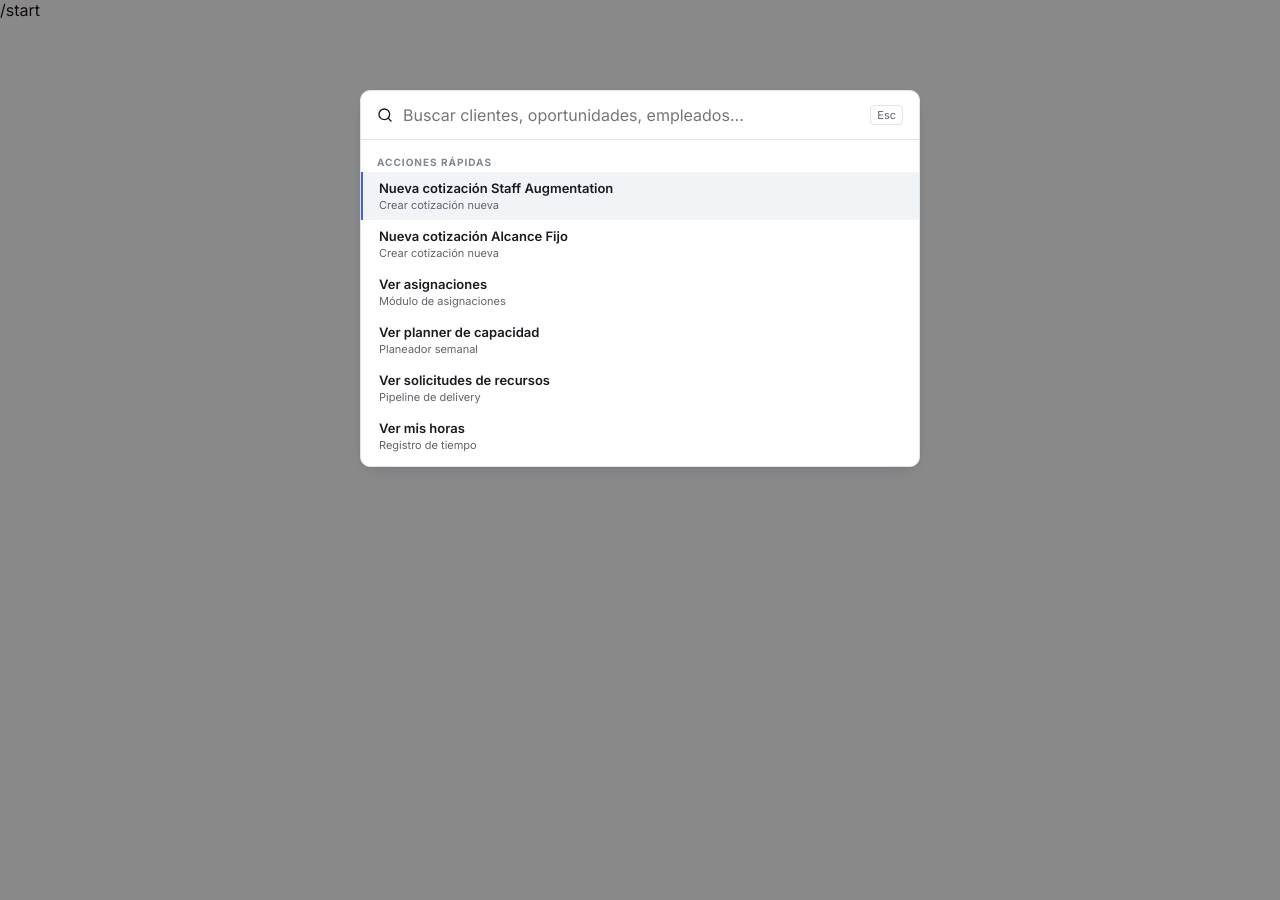
Test: CommandPalette › debounces then fetches and renders grouped results
Type "acme" into the search field with test id "cmdp-input" at (632, 115), box x1=403 y1=105 x2=860 y2=125
Wait 250 ms
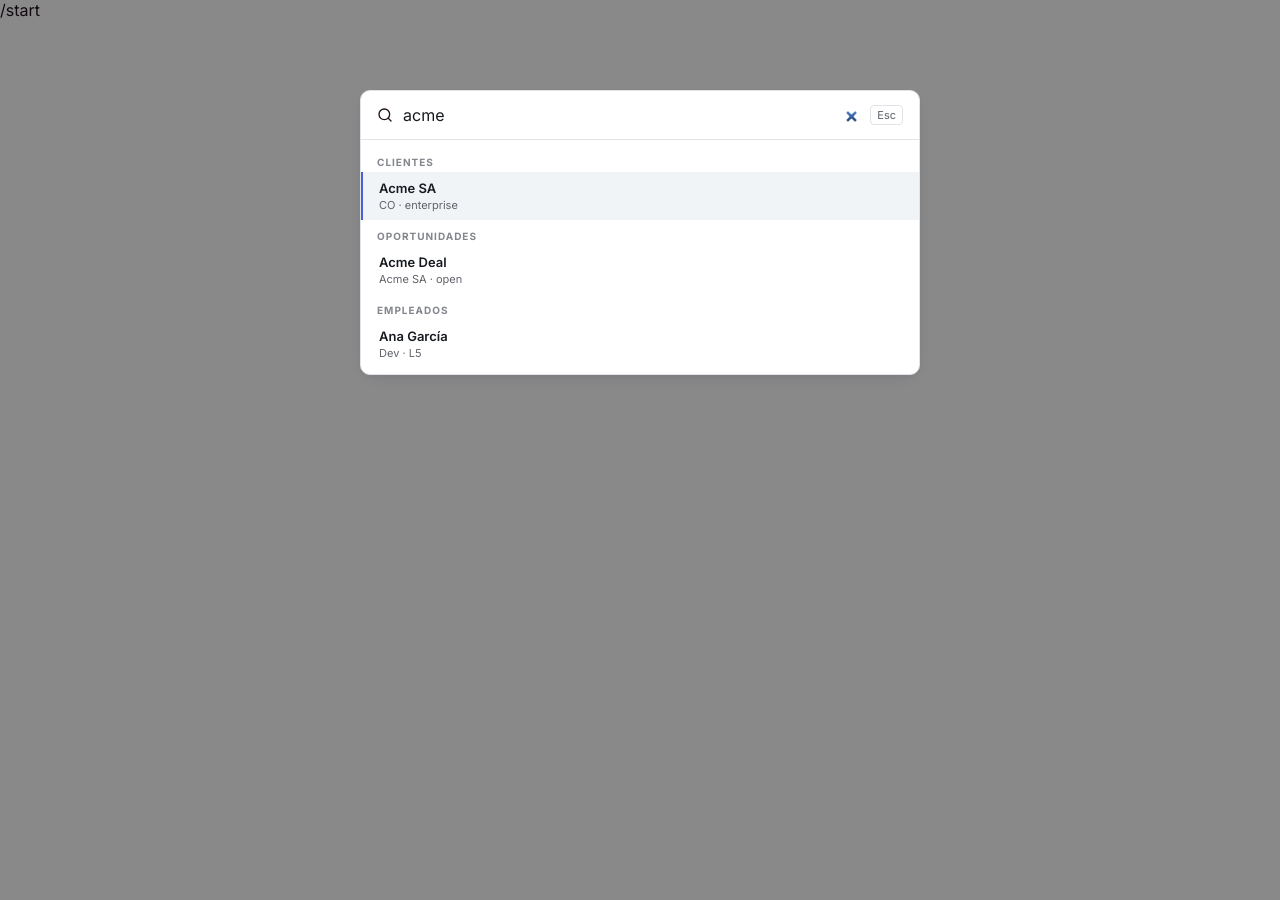
Expected: the text "Acme SA" is shown, x1=379 y1=180 x2=436 y2=196
Expected: the text "Acme Deal" is shown, x1=379 y1=254 x2=447 y2=270
Expected: the text "Ana García" is shown, x1=379 y1=328 x2=448 y2=344
